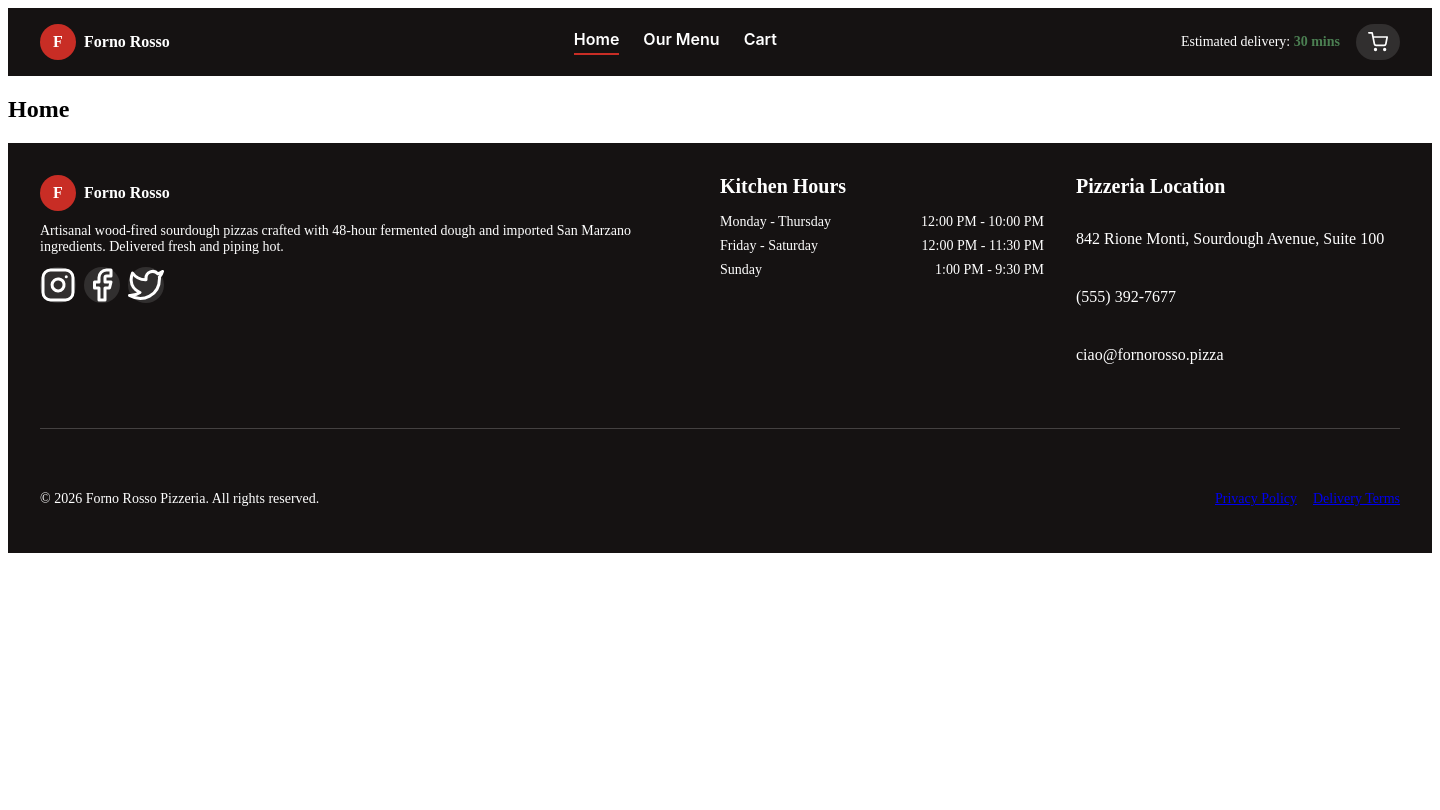
Test: App routing › nav links and the cart icon navigate client-side without remounting the shell
The width and height of the screenshot is (1440, 810).
Click the link "Our Menu".
click(682, 42)  # box [643, 29, 720, 55]
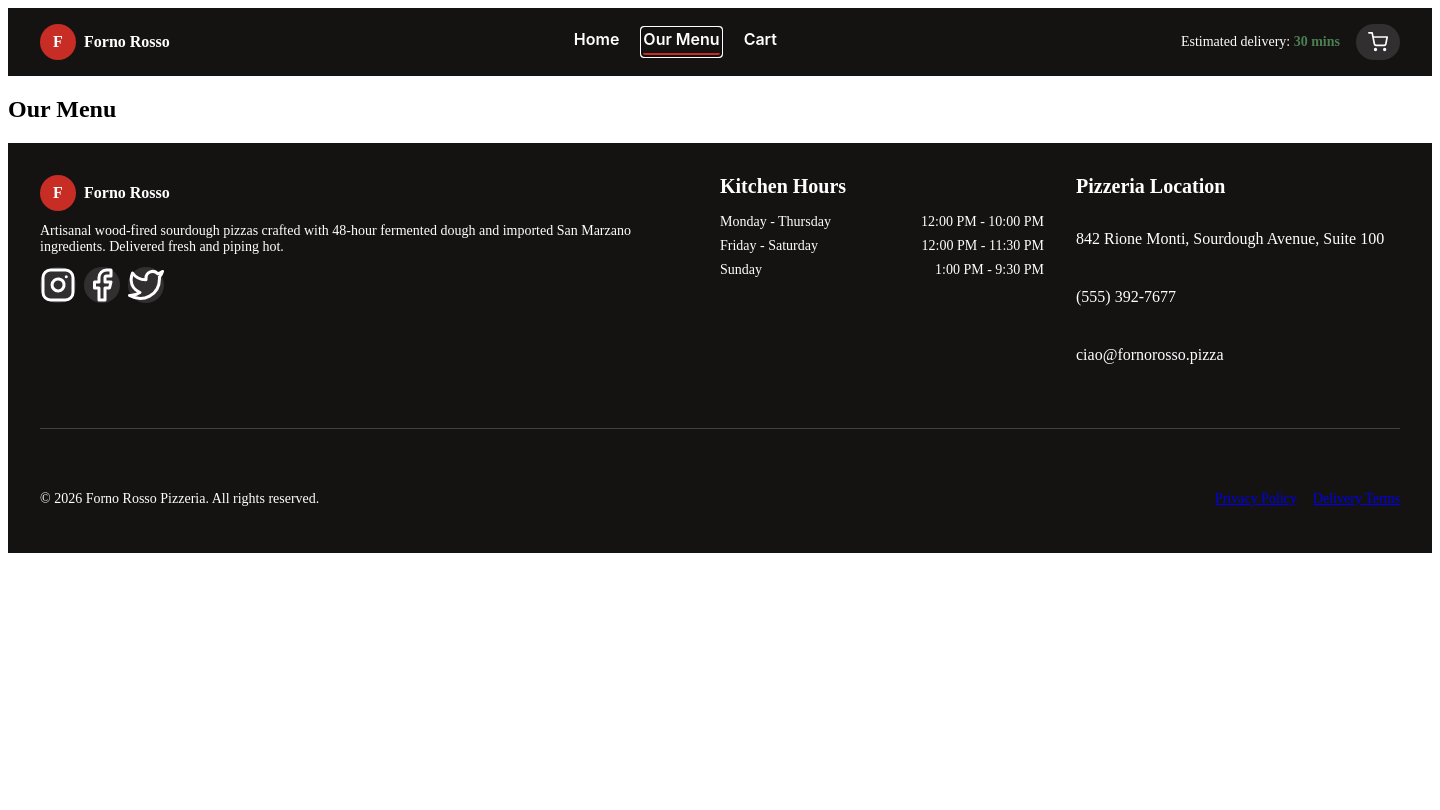
Result: the element with test id "menu-page" is shown at [8, 96, 116, 122]
Result: the element with test id "home-page" is gone
Click the link named "view cart".
click(1378, 42)  # box [1356, 24, 1400, 60]
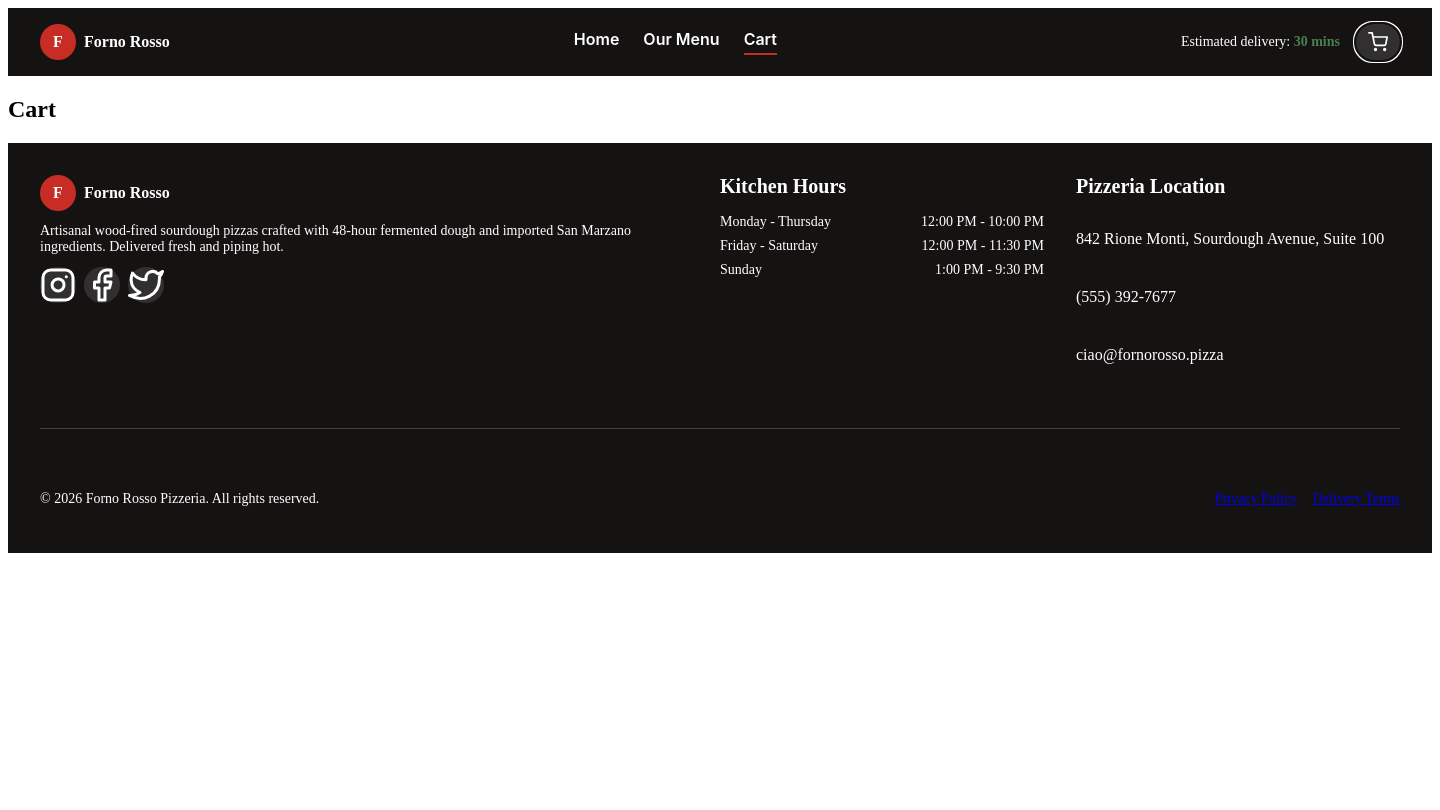
Result: the element with test id "cart-page" is shown at [8, 96, 56, 122]
Click the link "Home".
click(597, 42)  # box [574, 29, 619, 55]
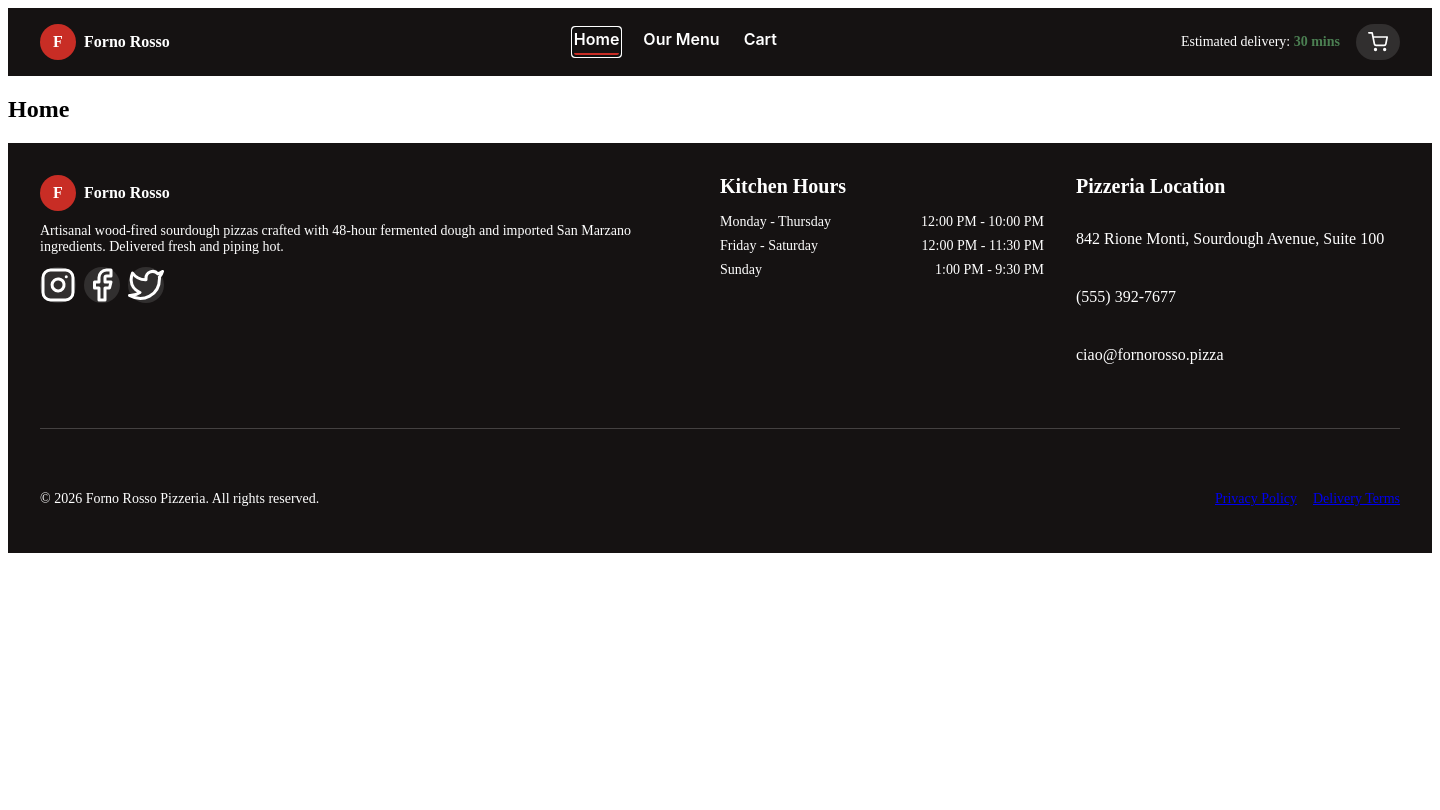
Result: the element with test id "home-page" is shown at [8, 96, 69, 122]
